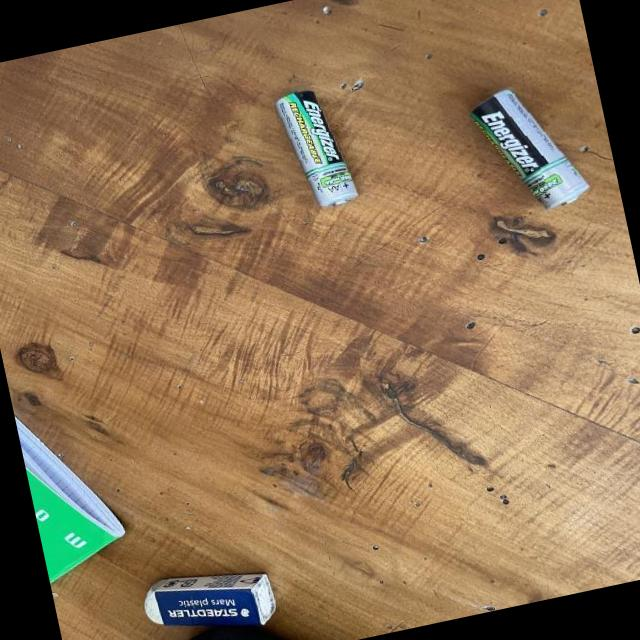Hazard: (462, 72, 590, 222), (270, 78, 360, 218)
